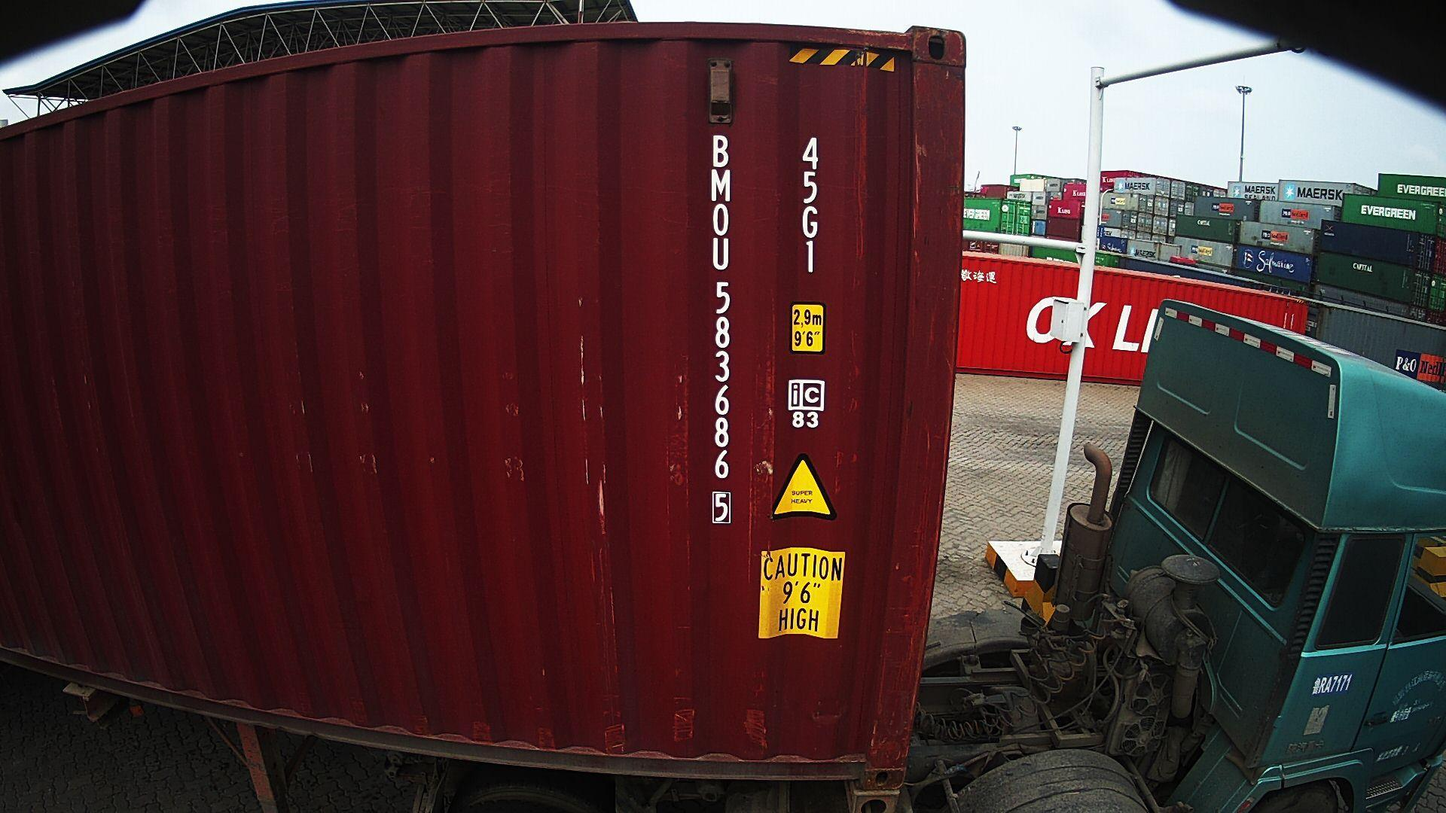container-numbers: (702, 131, 738, 527), (798, 135, 826, 279)
